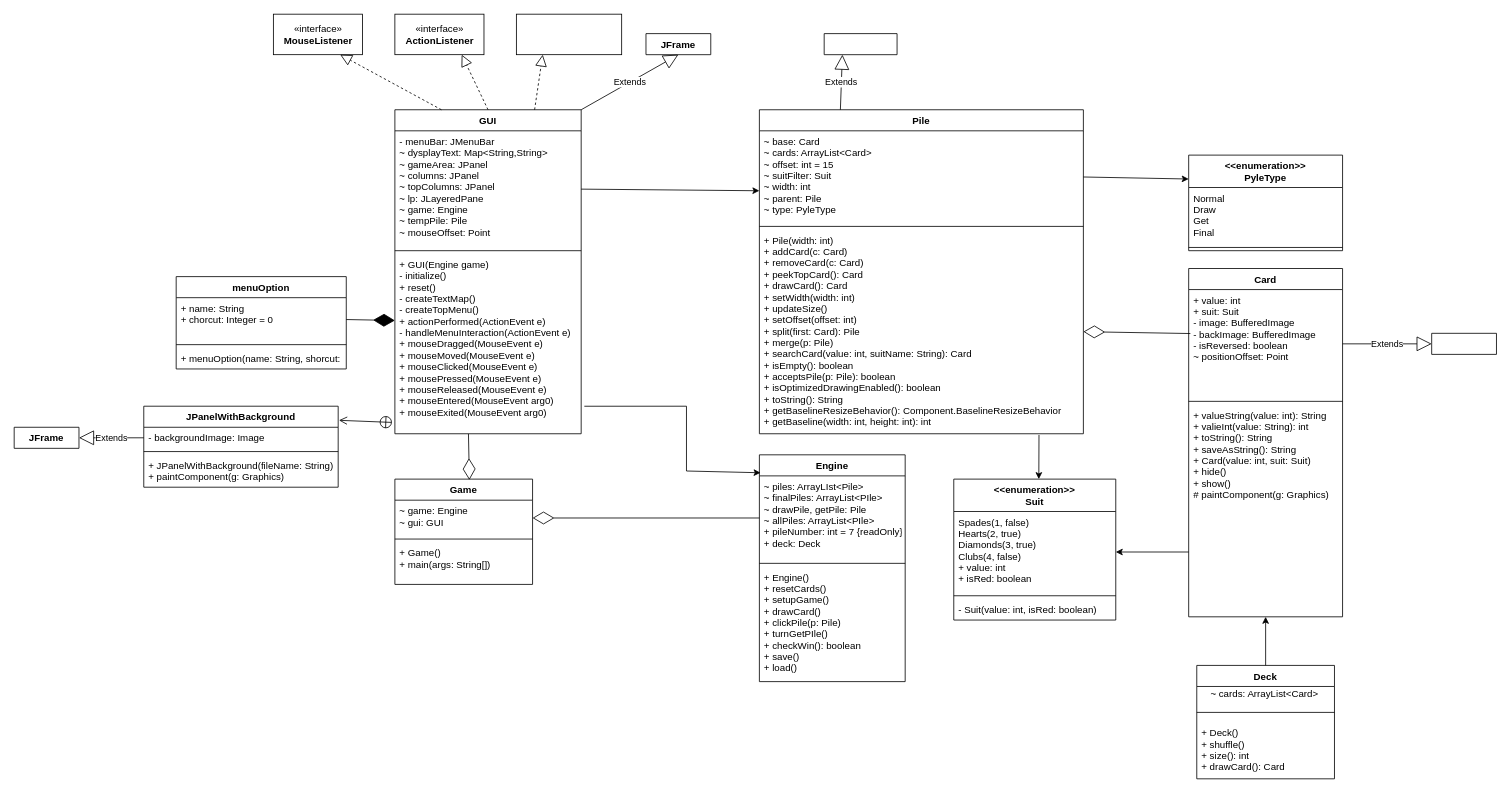
The diagram is 1511 pixels wide and 795 high, and some of its shapes have lost their labels. The centre of each missing label's shape, as x and y in pixels:
JLayeredPane: pixel 860 44
JPanel: pixel 1463 343
«interface» MouseMotionListener: pixel 569 34
